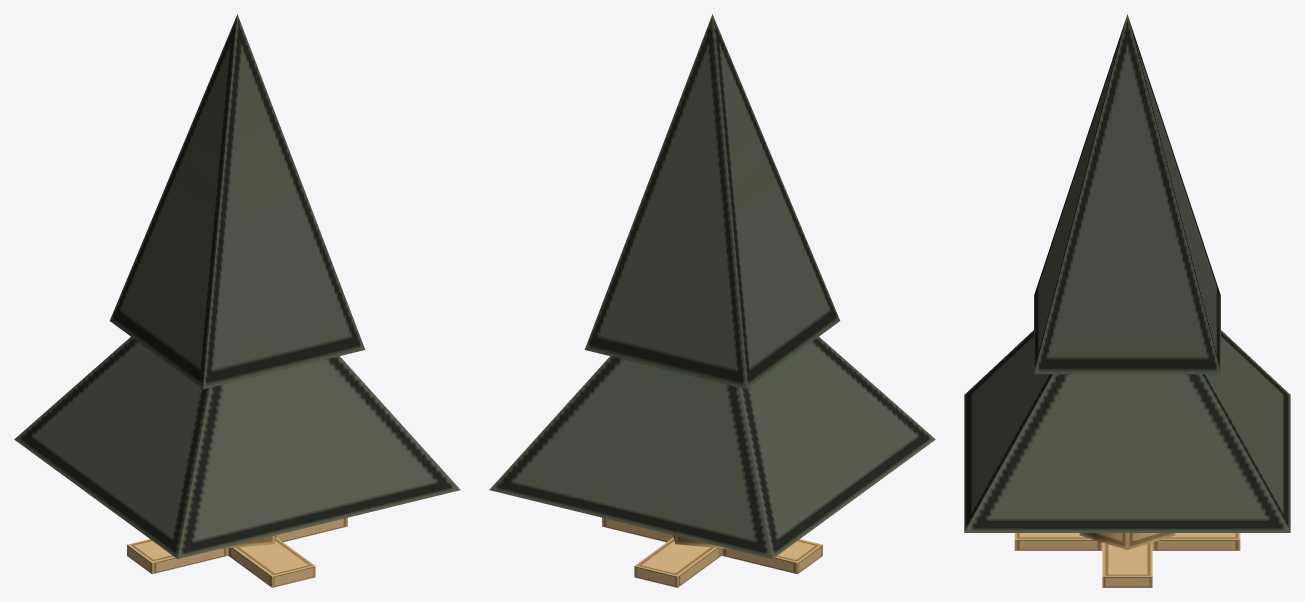
Rendered from Tree012.FBX.
3 renders of one model, left to right at view 1: azimuth 30°, elevation 25°; view 2: azimuth 150°, elevation 25°; view 3: azimuth 270°, elevation 25°, orthographic.
Parts seen in each view (by area): view 1: tree012; view 2: tree012; view 3: tree012.
Part boxes in pixels (left/top/right/bottom): tree012: left=14, top=14, right=460, bottom=587; tree012: left=489, top=14, right=935, bottom=587; tree012: left=964, top=14, right=1290, bottom=587.
Bounding box in the file's own units: 130 × 232 × 130.
Materials: 1 (1 with a texture image).
